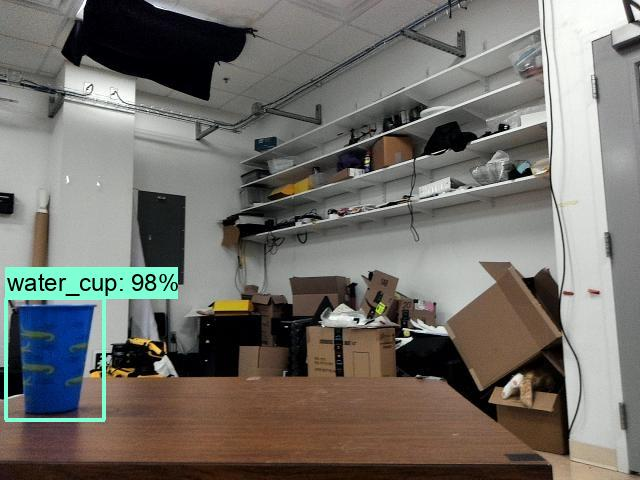water_cup: (8, 294, 99, 419)
